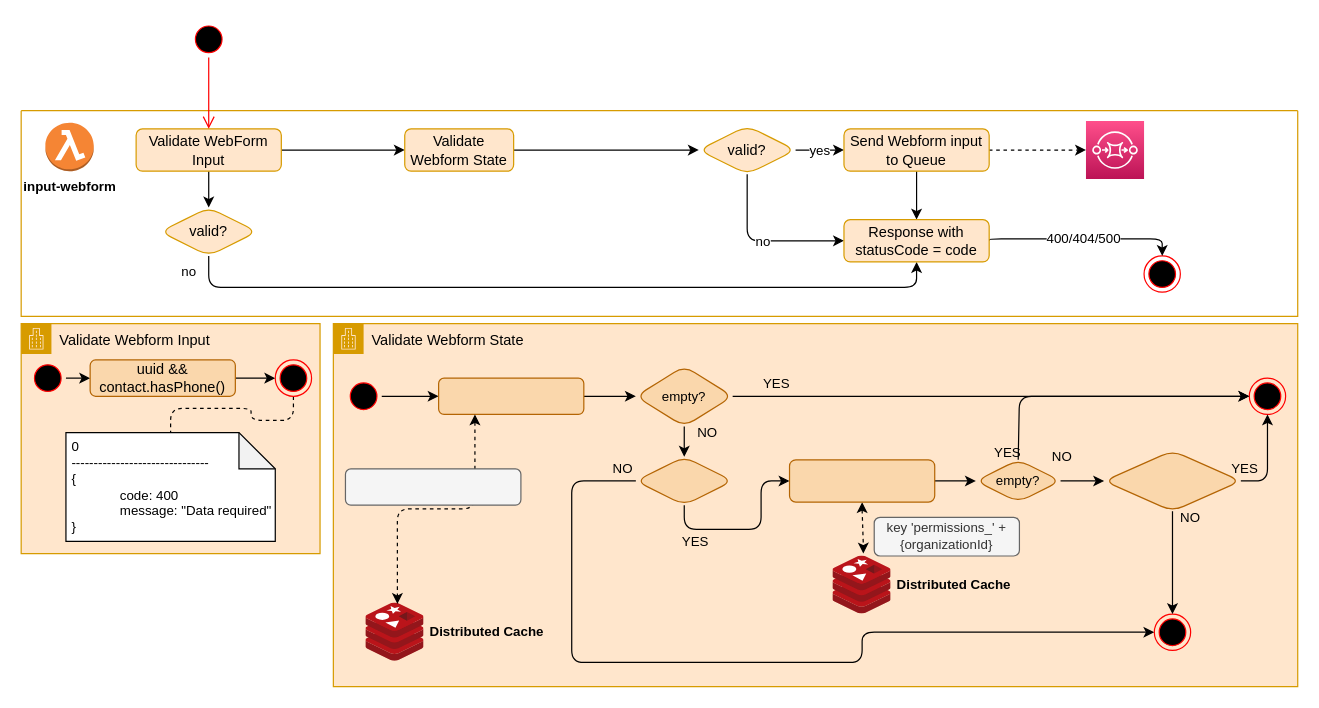
Some shapes in this 1319 by 708 pixel diagram are drawn without their labels. The shapes that lost their labels are listed below. From the top down, each one's centre as x and y in pixels, then its label:
the point at 1114,149: webform-input
the point at 510,395: Get Webform
the point at 1267,395: Valid
the point at 432,486: key: 'webform_' + {uuid}
the point at 684,480: isActive?
the point at 861,480: Get Organization Permissions
the point at 1172,480: webhooks==true?
the point at 1172,631: Invalid
